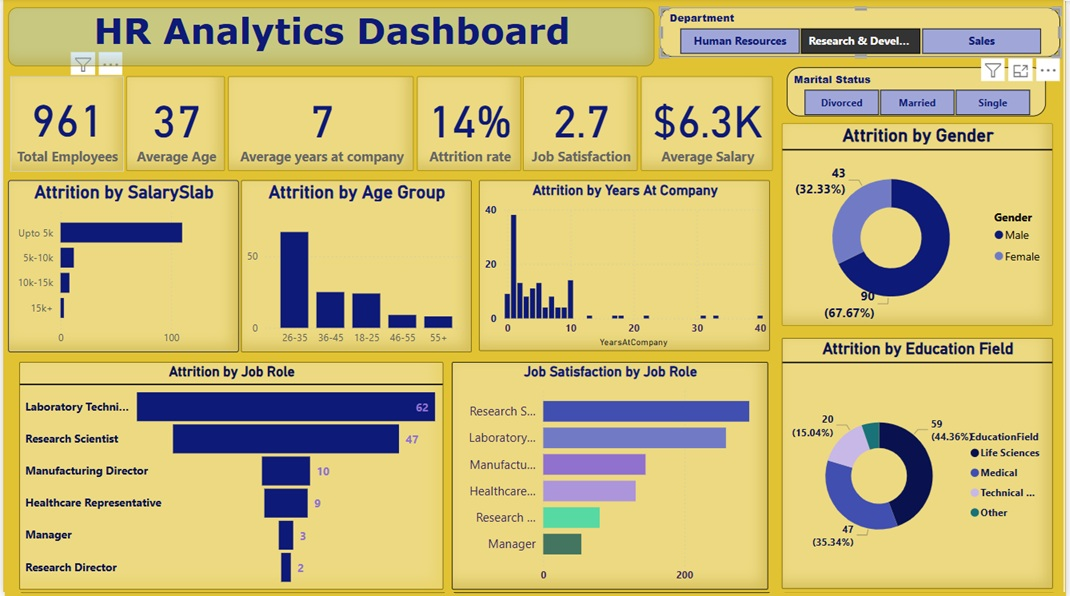

The page's visual inventory and layout, read from the dashboard file:
{"tool":"powerbi","page":{"name":"Page 1","canvas":[1280,720],"ordinal":0},"visuals":[{"type":"card","fields":{"Values":["HR_Analytics.No. of employees"]},"box":[7.9,93.8,136.7,114.4],"z":0},{"type":"card","fields":{"Values":["HR_Analytics.Attrition rate"]},"box":[499.1,93.8,125.6,114.4],"z":1000},{"type":"card","fields":{"Values":["HR_Analytics.Average Age"]},"box":[147.8,93.8,119.2,114.4],"z":2000},{"type":"card","fields":{"Values":["HR_Analytics.Average years at company"]},"box":[271.8,93.8,224.1,114.4],"z":3000},{"type":"donutChart","title":"Attrition by Gender","fields":{"Category":["HR_Analytics.Gender"],"Y":["HR_Analytics.No. of attrition"]},"box":[939.3,151,327.4,244.8],"z":4000},{"type":"slicer","title":"Department","fields":{"Values":["HR_Analytics.Department"]},"box":[793.1,11.1,483.2,60.4],"z":5000},{"type":"clusteredBarChart","title":"Attrition by SalarySlab","fields":{"Category":["HR_Analytics.SalarySlab"],"Y":["HR_Analytics.No. of attrition"]},"box":[6.4,219.3,278.1,208.2],"z":6000},{"type":"donutChart","title":"Attrition by Education Field","fields":{"Category":["HR_Analytics.EducationField"],"Y":["HR_Analytics.No. of attrition"]},"box":[939.3,410.1,327.4,303.6],"z":7000},{"type":"columnChart","title":"Attrition by Age Group","fields":{"Y":["HR_Analytics.No. of attrition"],"Category":["HR_Analytics.AgeGroup"]},"box":[287.7,219.3,278.1,208.2],"z":8000},{"type":"barChart","title":"Job Satisfaction by Job Role","fields":{"Category":["HR_Analytics.JobRole"],"Y":["CountNonNull(HR_Analytics.JobSatisfaction)"]},"box":[542,438.7,381.5,275],"z":9000},{"type":"clusteredColumnChart","title":"Attrition by Years At Company","fields":{"Category":["HR_Analytics.YearsAtCompany"],"Y":["HR_Analytics.No. of attrition"]},"box":[573.8,219.3,351.3,206.6],"z":10000},{"type":"funnel","title":"Attrition by Job Role","fields":{"Category":["HR_Analytics.JobRole"],"Y":["HR_Analytics.No. of attrition"]},"box":[19.1,438.7,511.8,275],"z":11000},{"type":"card","fields":{"Values":["HR_Analytics.Average Salary"]},"box":[769.3,93.8,158.9,114.4],"z":12000},{"type":"card","fields":{"Values":["HR_Analytics.Avg. Job Satisfaction"]},"box":[627.8,93.8,138.3,114.4],"z":13000},{"type":"slicer","title":"Marital Status","fields":{"Values":["HR_Analytics.MaritalStatus"]},"box":[945.7,82.6,313.1,58.8],"z":14000},{"type":"textbox","box":[6.4,11.1,780.4,71.5],"z":15000}]}

Visuals, with their boxes in screenshot pixels (x1, y1, x2, y2), scaled from the page's 1280x720 canvas onto the 1070x596 screenshot:
card - HR_Analytics.No. of employees: box=[7, 78, 121, 172]
card - HR_Analytics.Attrition rate: box=[417, 78, 522, 172]
card - HR_Analytics.Average Age: box=[124, 78, 223, 172]
card - HR_Analytics.Average years at company: box=[227, 78, 415, 172]
"Attrition by Gender" donutChart: box=[785, 125, 1059, 328]
"Department" slicer: box=[663, 9, 1067, 59]
"Attrition by SalarySlab" clusteredBarChart: box=[5, 182, 238, 354]
"Attrition by Education Field" donutChart: box=[785, 339, 1059, 591]
"Attrition by Age Group" columnChart: box=[240, 182, 473, 354]
"Job Satisfaction by Job Role" barChart: box=[453, 363, 772, 591]
"Attrition by Years At Company" clusteredColumnChart: box=[480, 182, 773, 353]
"Attrition by Job Role" funnel: box=[16, 363, 444, 591]
card - HR_Analytics.Average Salary: box=[643, 78, 776, 172]
card - HR_Analytics.Avg. Job Satisfaction: box=[525, 78, 640, 172]
"Marital Status" slicer: box=[791, 68, 1052, 117]
textbox: box=[5, 9, 658, 68]
